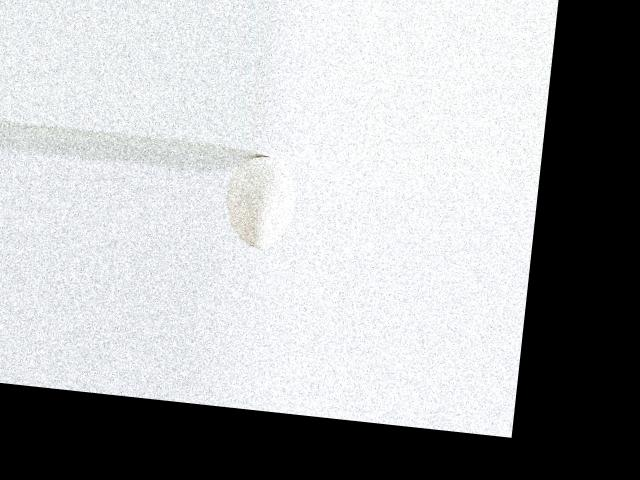egg: (222, 152, 300, 252)
